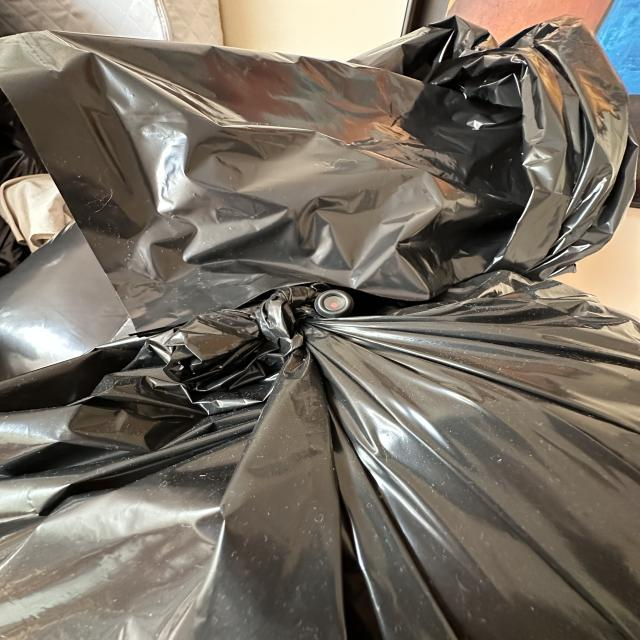hidden camera: (311, 286, 356, 321)
